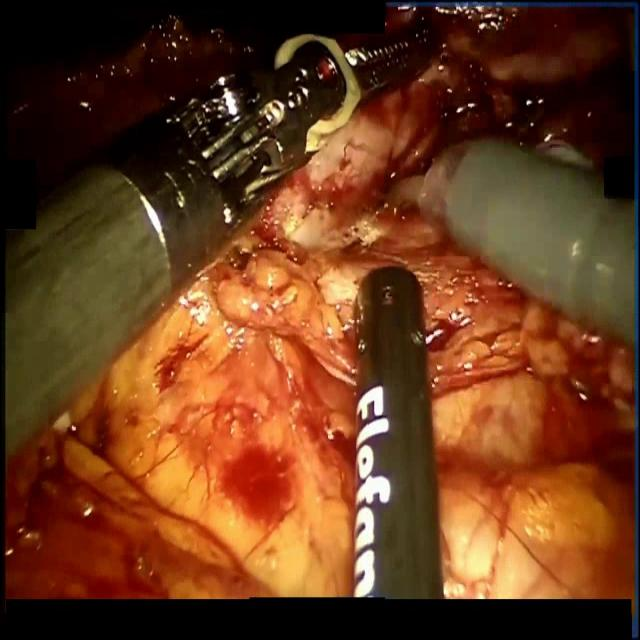surgical-area: (0, 0, 634, 599)
surgical-tool: (4, 31, 426, 465), (388, 135, 634, 347), (354, 265, 442, 598)
